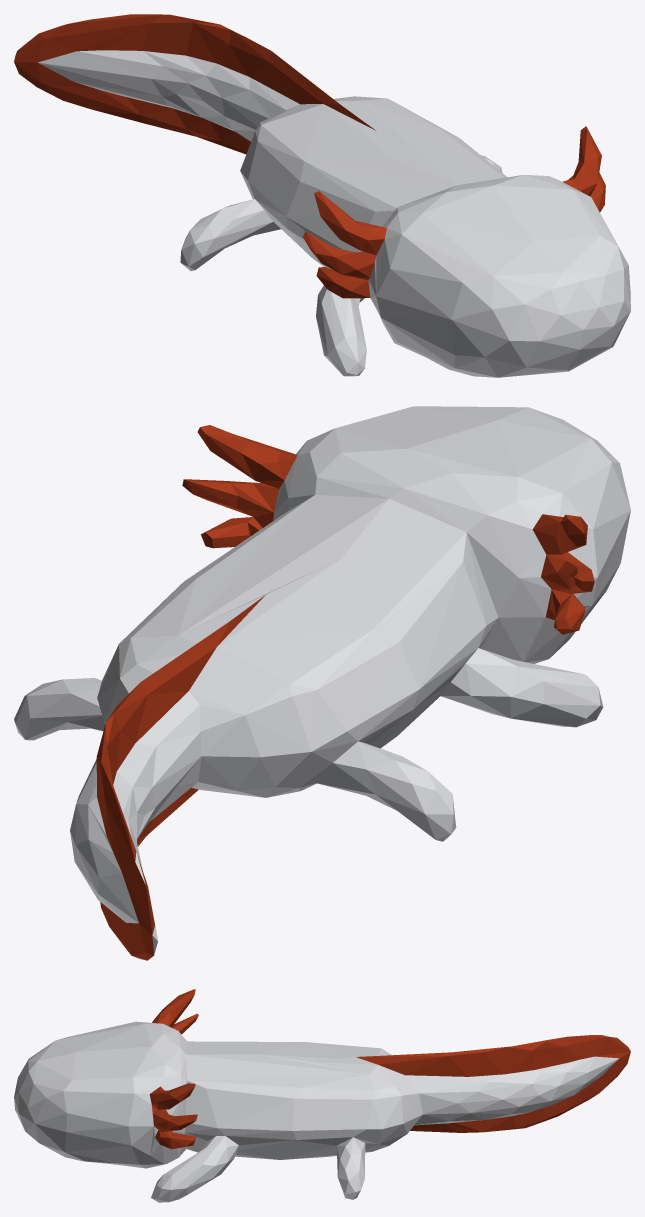
Rendered from axolotl.glb.
3 renders of one model, top to bottom at view 1: azimuth 30°, elevation 25°; view 2: azimuth 150°, elevation 25°; view 3: azimuth 270°, elevation 25°, orthographic. The views are drawn at different scales.
Parts seen in each view (by area): view 1: Axolotl; view 2: Axolotl; view 3: Axolotl.
Boxes of the visible parts, bbox=[...] form: Axolotl: bbox=[14, 14, 630, 377]; Axolotl: bbox=[14, 406, 630, 960]; Axolotl: bbox=[14, 989, 630, 1202].
Bounding box in the file's own units: 5.11 × 2.6 × 11.83.
1 material, 1 textured.
